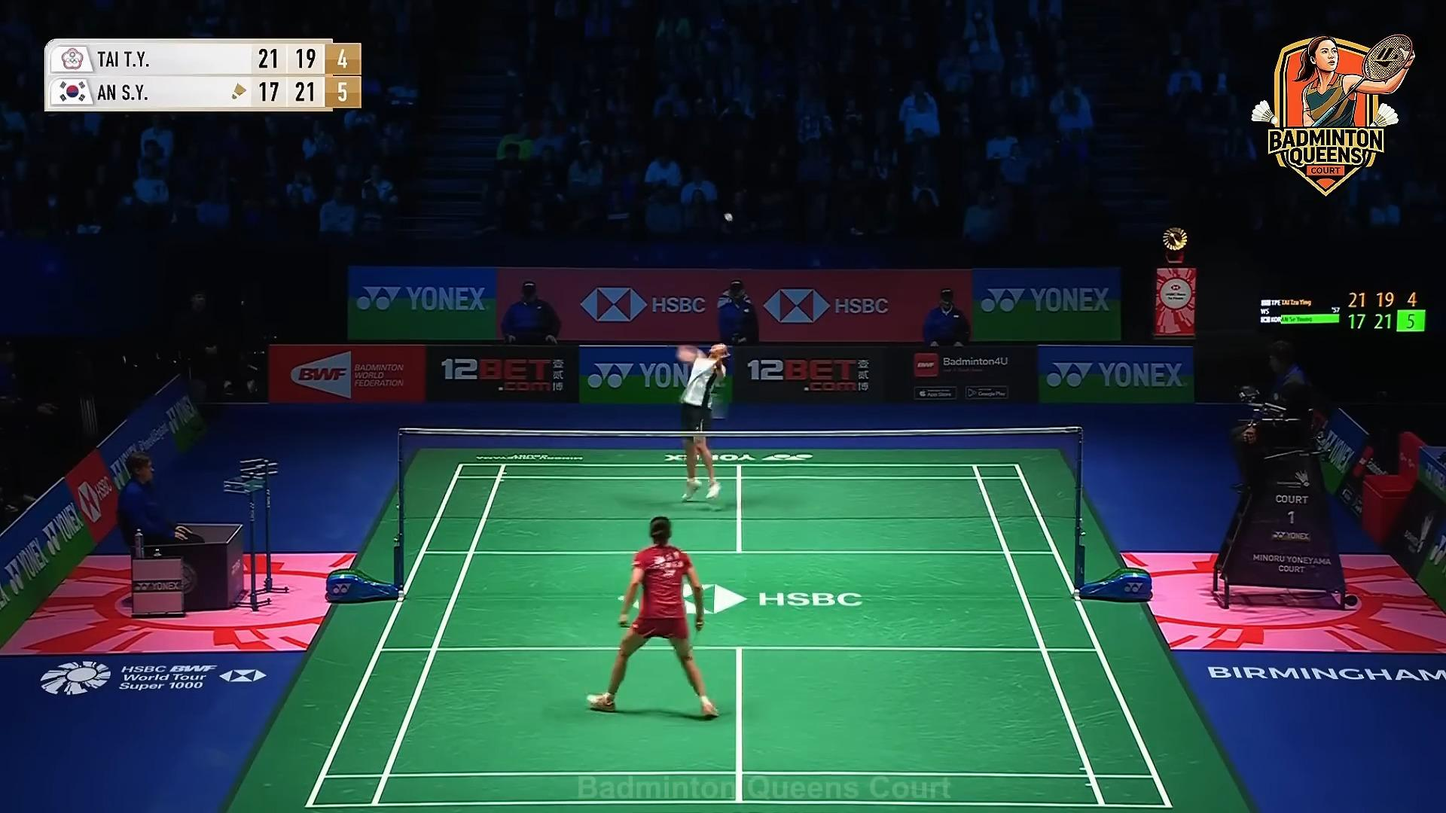player: (587, 516, 718, 720), (676, 337, 731, 501)
